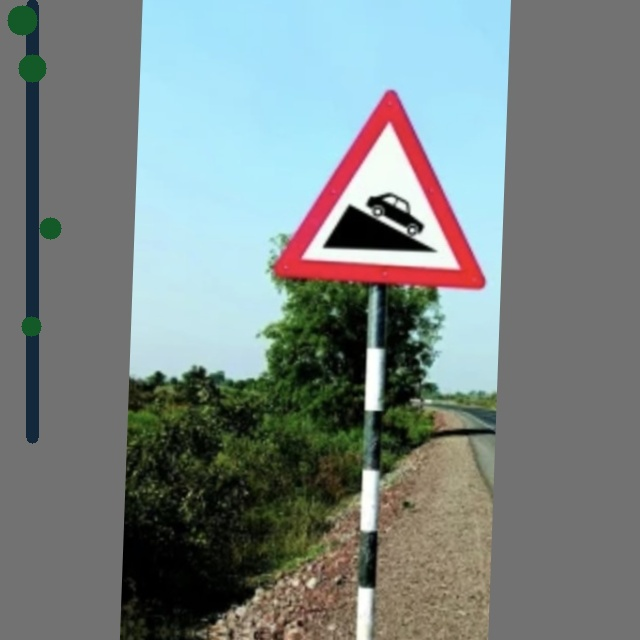Steep_Descent: (279, 87, 491, 297)
